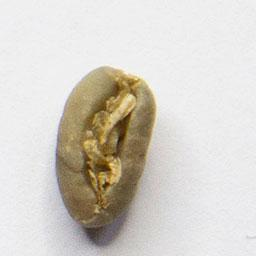peaberry: (51, 61, 161, 232)
